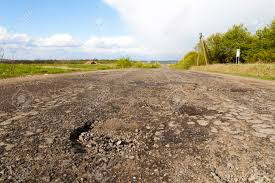pothole: (58, 117, 138, 160)
